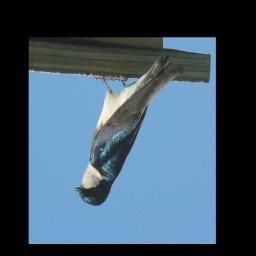Swallow: (74, 53, 186, 207)
